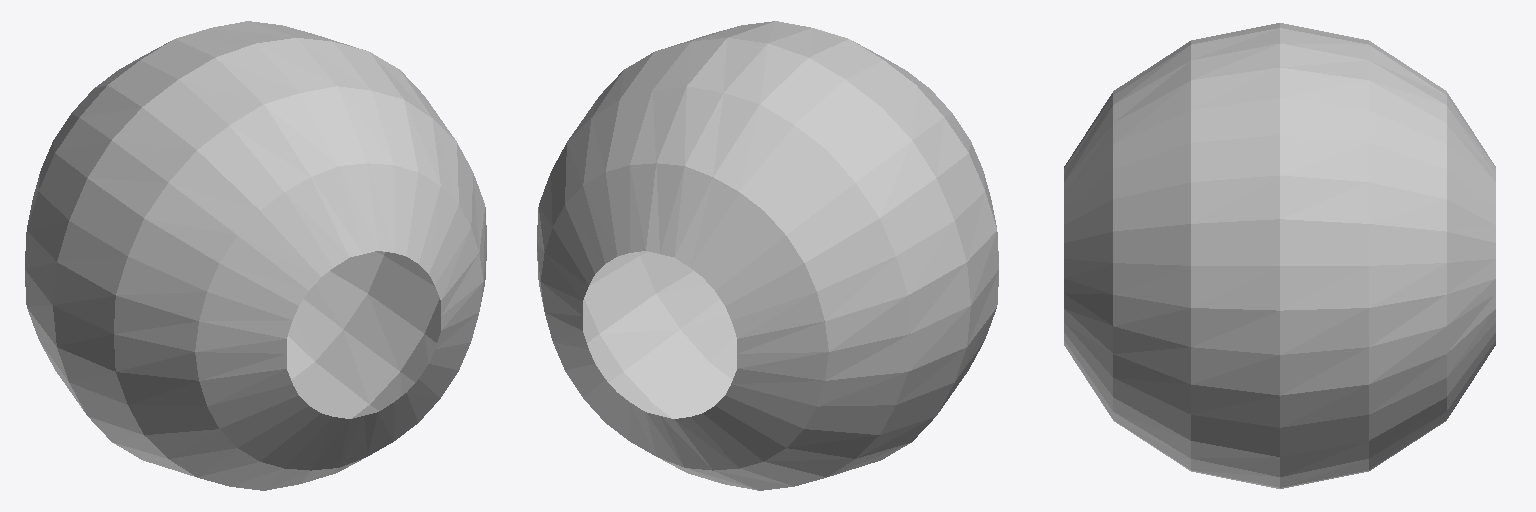
The model's file is spheretri.obj.
3 renders of one model, left to right at view 1: azimuth 30°, elevation 25°; view 2: azimuth 150°, elevation 25°; view 3: azimuth 270°, elevation 25°, orthographic.
Visible parts, largest first — view 1: sphere; view 2: sphere; view 3: sphere.
Part boxes in pixels (bbox=[...]): sphere: bbox=[25, 21, 486, 490]; sphere: bbox=[537, 21, 998, 490]; sphere: bbox=[1064, 23, 1495, 488].
Bounding box in the file's own units: 2 × 2 × 1.84.